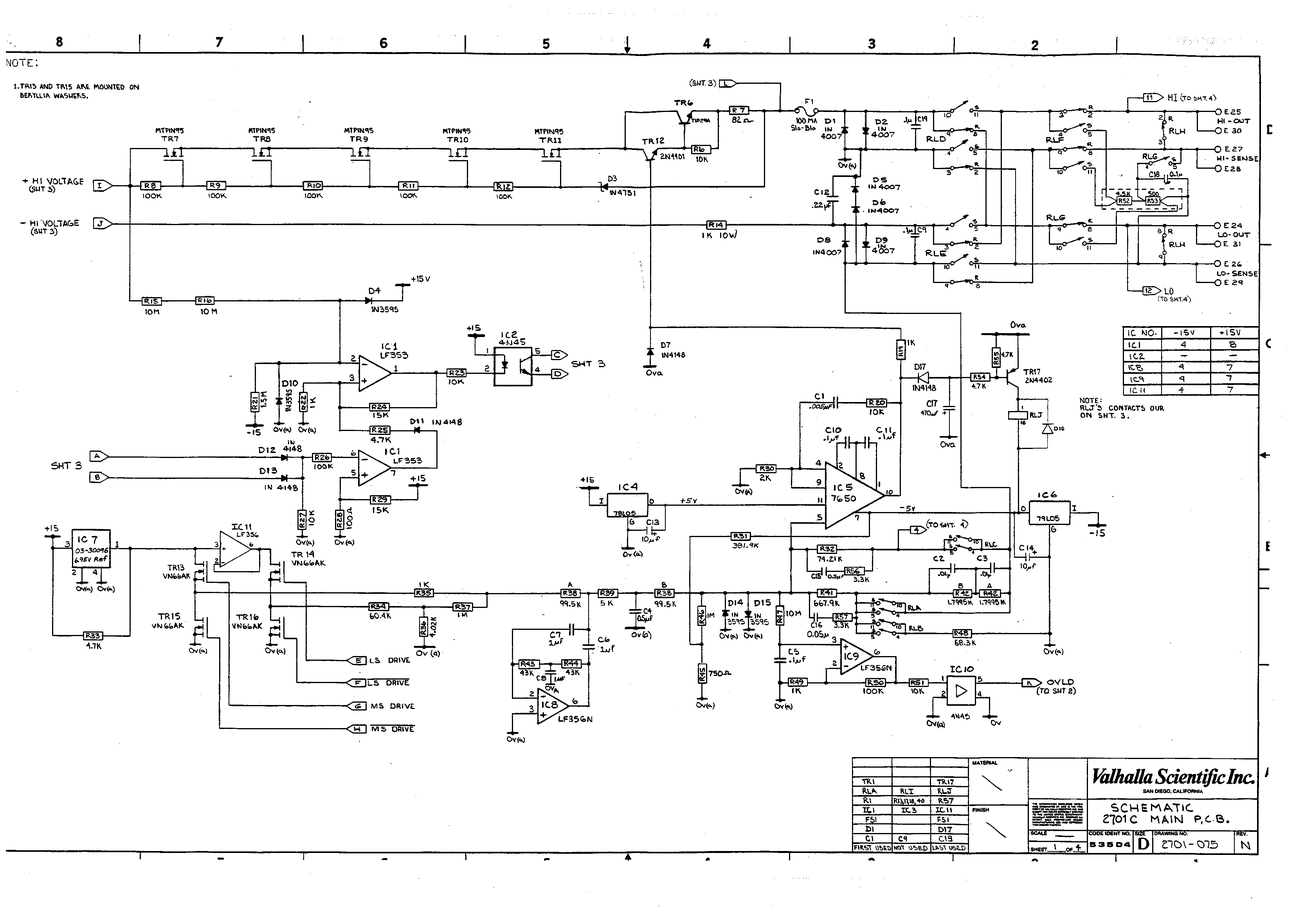C: (825, 389, 845, 411), (560, 616, 576, 642), (840, 426, 855, 453), (938, 398, 956, 418), (581, 639, 600, 657), (821, 190, 843, 205), (858, 433, 873, 454), (768, 655, 792, 668)
D: (593, 171, 618, 196), (641, 342, 657, 359), (859, 123, 873, 142), (859, 235, 872, 254), (841, 121, 852, 139), (839, 235, 853, 249), (848, 184, 863, 195), (848, 203, 861, 215)
IC: (932, 203, 991, 303), (1048, 91, 1100, 186), (937, 90, 984, 191), (61, 520, 115, 577), (1052, 202, 1102, 261)
Q: (438, 141, 479, 173), (185, 554, 212, 592), (636, 143, 671, 172), (246, 139, 279, 166), (265, 555, 292, 588), (261, 613, 290, 643), (160, 142, 194, 167), (344, 141, 378, 166), (669, 108, 705, 130), (188, 613, 212, 640)
R: (192, 287, 229, 317), (135, 175, 173, 204), (297, 172, 333, 200), (485, 173, 520, 201), (888, 336, 912, 368), (139, 289, 170, 313), (651, 581, 682, 604), (393, 175, 425, 197), (704, 213, 729, 240), (724, 526, 759, 545), (967, 365, 991, 392), (812, 541, 844, 561), (591, 582, 623, 601), (202, 177, 233, 196), (555, 583, 582, 604), (753, 458, 779, 476)
U: (816, 457, 891, 533), (488, 337, 550, 402), (350, 341, 401, 397), (1021, 492, 1077, 534), (941, 663, 985, 714), (605, 482, 657, 525), (351, 442, 393, 490), (836, 629, 873, 681), (530, 679, 570, 726)
